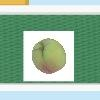ripe: (32, 38, 67, 75)
